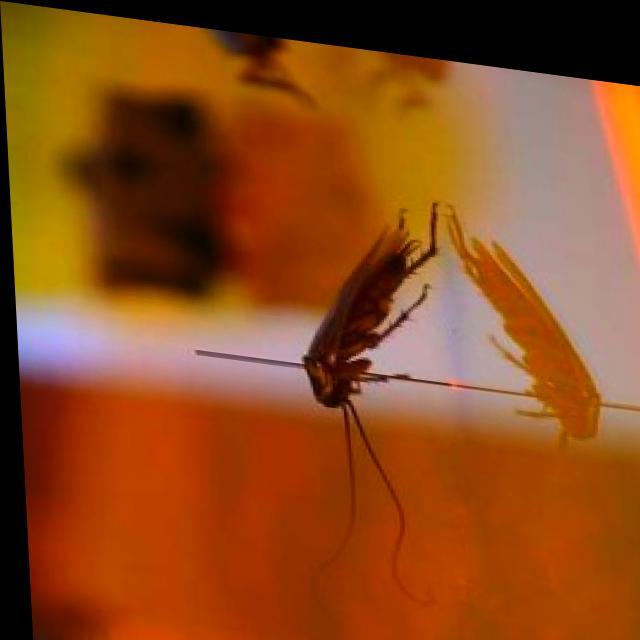cockroach: (263, 182, 472, 472)
